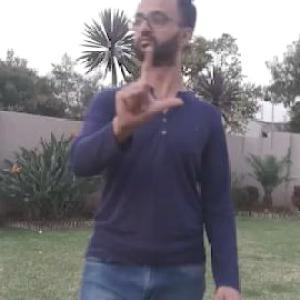land_hand: (106, 44, 188, 136)
